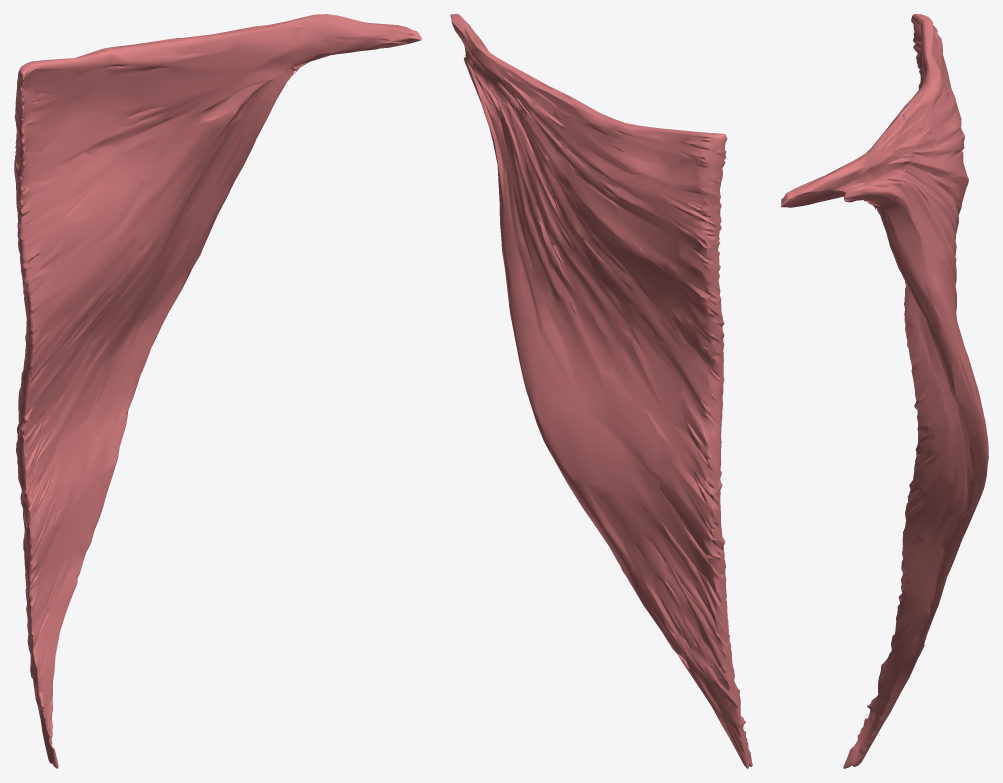
The picture shows the model from 3 angles, left to right: view 1: azimuth 30°, elevation 25°; view 2: azimuth 150°, elevation 25°; view 3: azimuth 270°, elevation 25°; orthographic projection. The views are drawn at different scales.
Parts seen in each view (by area): view 1: FJ1520M; view 2: FJ1520M; view 3: FJ1520M.
Part boxes in pixels (x1,y1,x2,y2): FJ1520M: [14, 14, 421, 768]; FJ1520M: [450, 14, 752, 768]; FJ1520M: [781, 14, 988, 768].
Bounding box in the file's own units: 0.151 × 0.2874 × 0.0711.
